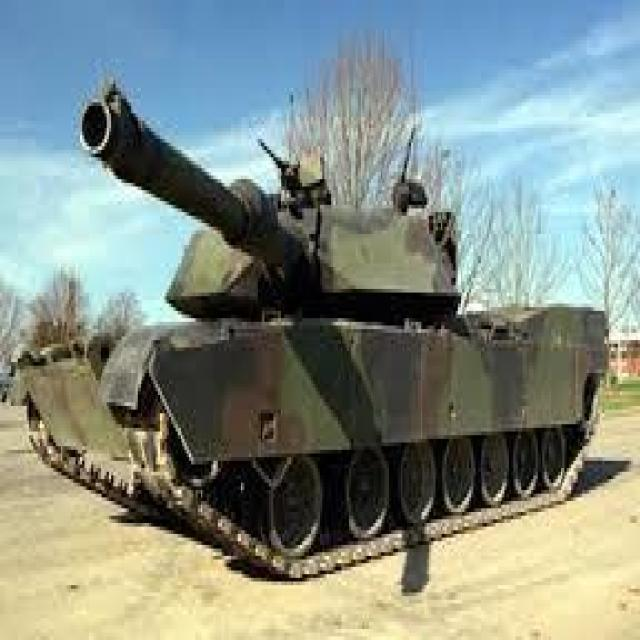MIL_MBT: (36, 16, 571, 620)
